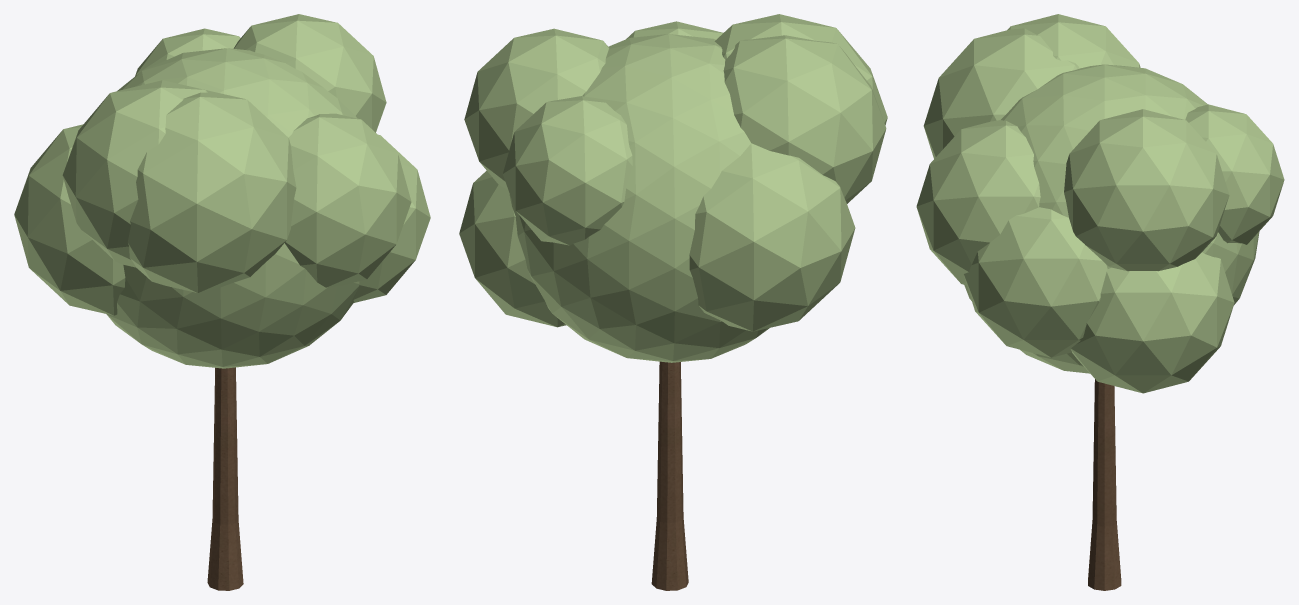
The model's file is tree_b.glb.
3 views of the same model, side by side, from view 1: azimuth 30°, elevation 25°; view 2: azimuth 150°, elevation 25°; view 3: azimuth 270°, elevation 25° (orthographic). The views are drawn at different scales.
Visible parts, largest first — view 1: tree_b_leaf2, tree_b_bark; view 2: tree_b_leaf2, tree_b_bark; view 3: tree_b_leaf2, tree_b_bark.
Part boxes in pixels (x1,y1,x2,y2): tree_b_leaf2: [14, 14, 430, 368]; tree_b_bark: [207, 367, 243, 590]; tree_b_leaf2: [459, 14, 887, 362]; tree_b_bark: [651, 361, 688, 590]; tree_b_leaf2: [916, 14, 1284, 393]; tree_b_bark: [1088, 379, 1121, 590].
Size of the model in its own units: 4.07 by 5.85 by 3.76.
2 materials, 1 textured.
